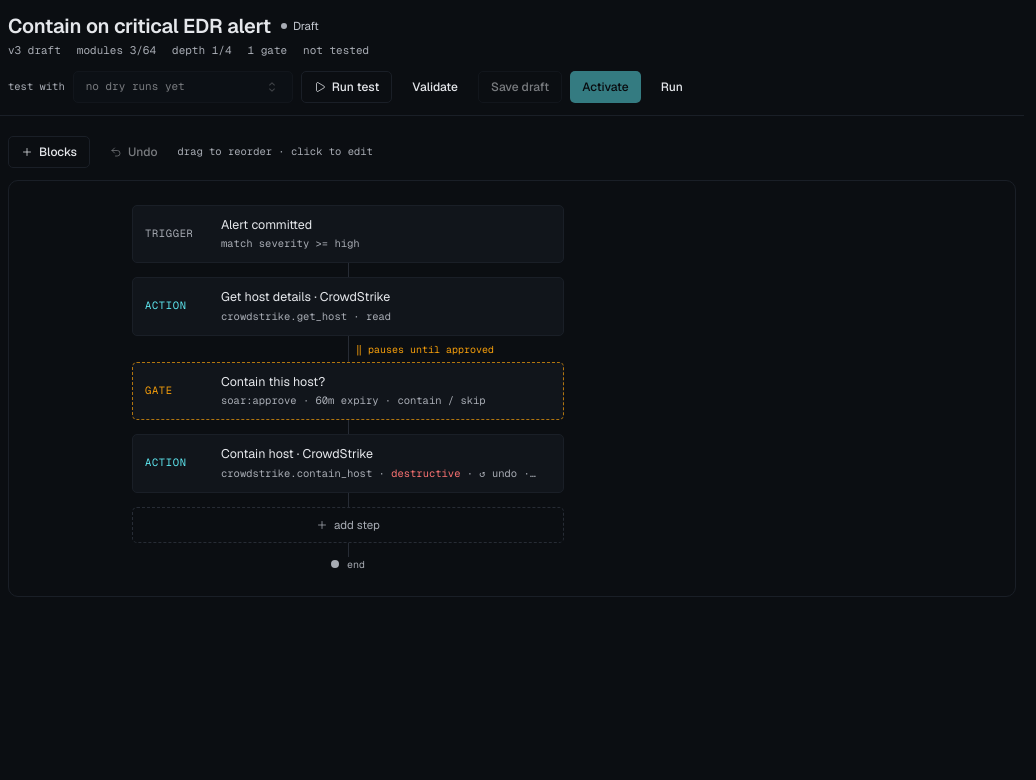
Test: Flow editor › save: PUT carries the edited definition, the version and untouched fields
Expected: the element with test id "flow-canvas" is shown, x1=8 y1=180 x2=1016 y2=596
Expected: the text "Get host details · CrowdStrike" is shown, x1=221 y1=288 x2=390 y2=305
Click the button with test id "flow-step" at x=348, y=391, box x1=132 y1=362 x2=564 y2=420
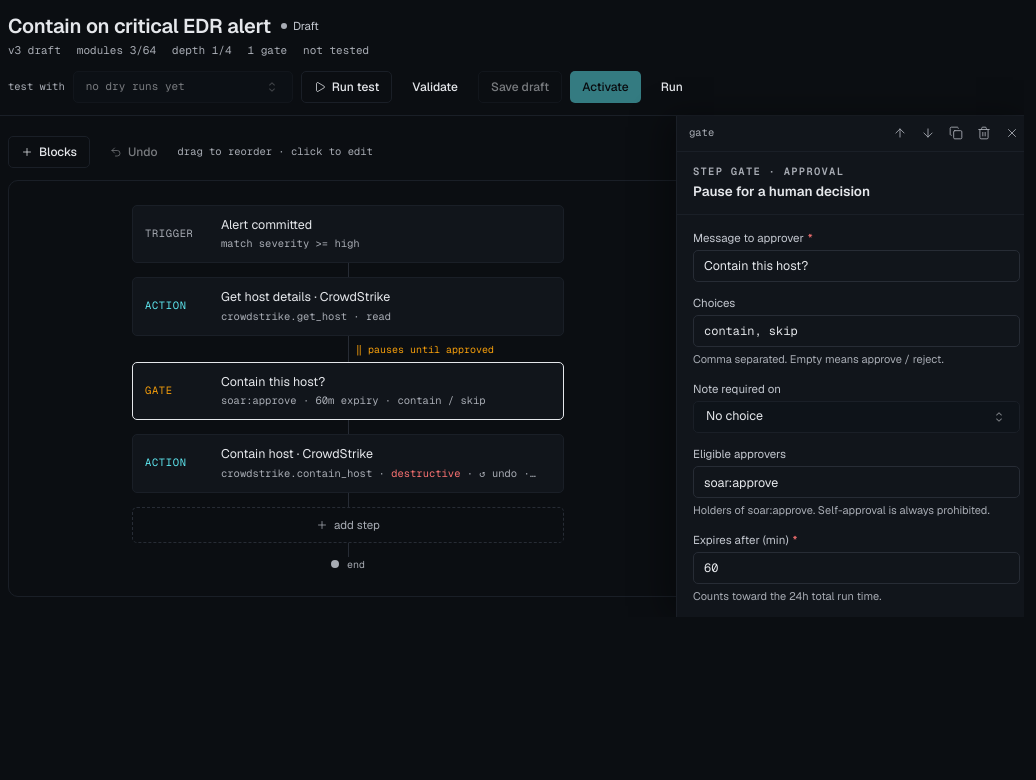
Replace the text in the field named "Message to approver" with "Contain FIN-LT-0388?" at x=856, y=266, box x1=693 y1=250 x2=1020 y2=282
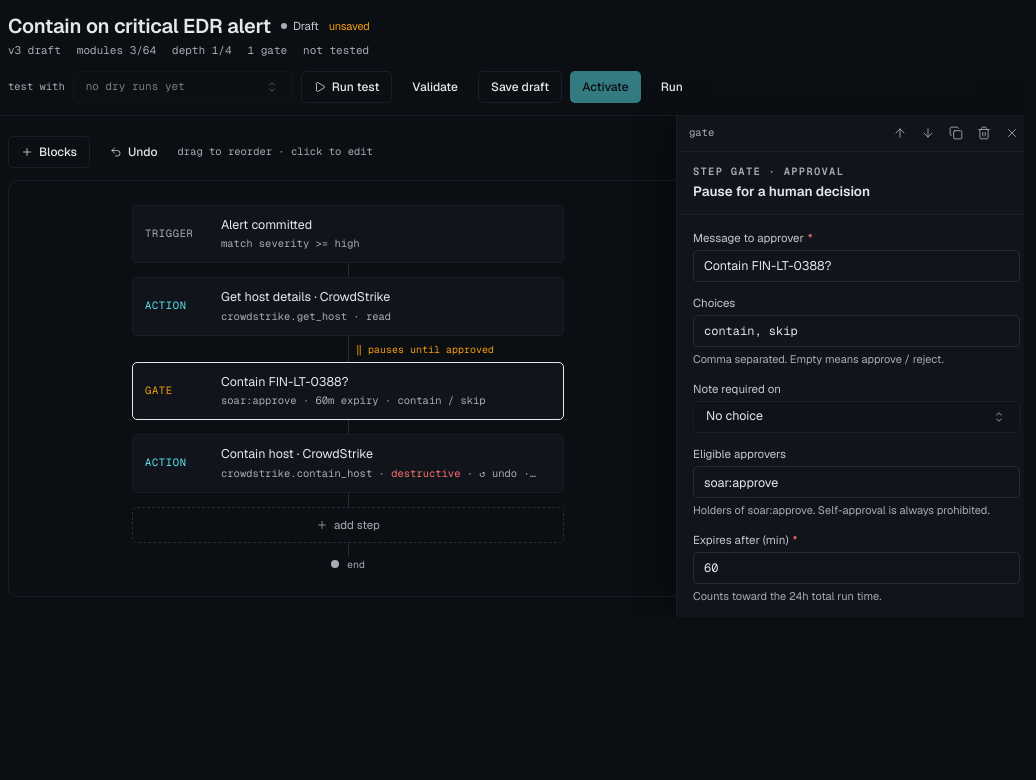
Click the button "Save draft" at x=520, y=86, box x1=478 y1=70 x2=562 y2=102
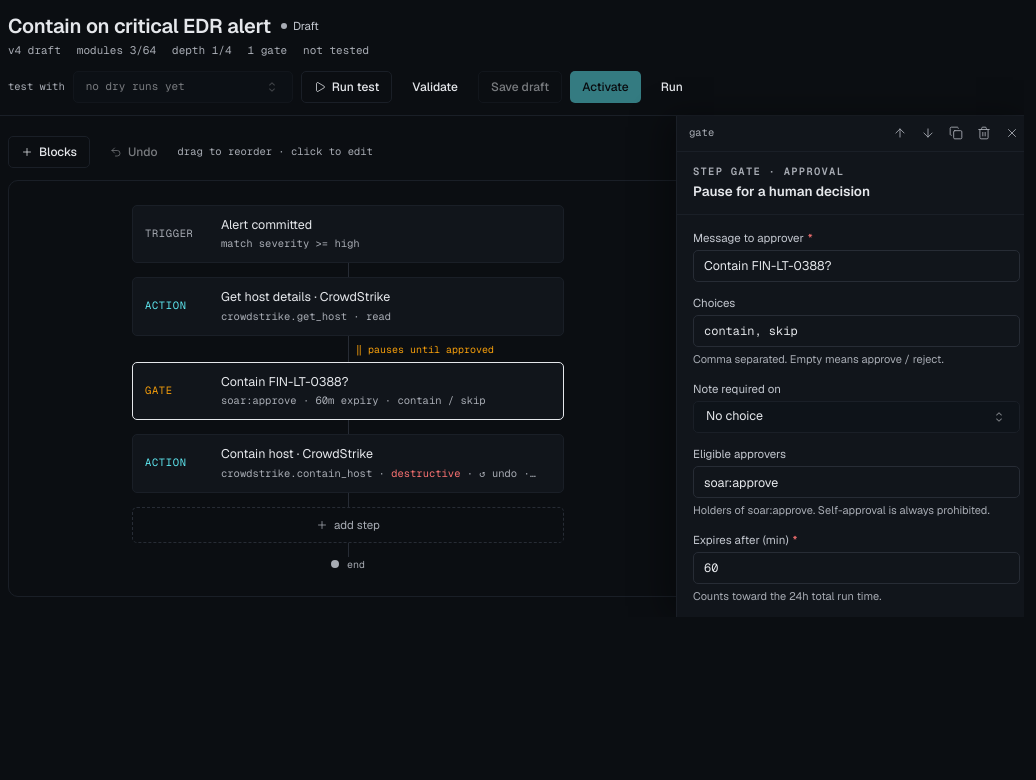
Now the text "Contain FIN-LT-0388?" is shown, box x1=221 y1=372 x2=348 y2=390
Now the text "unsaved" is gone
